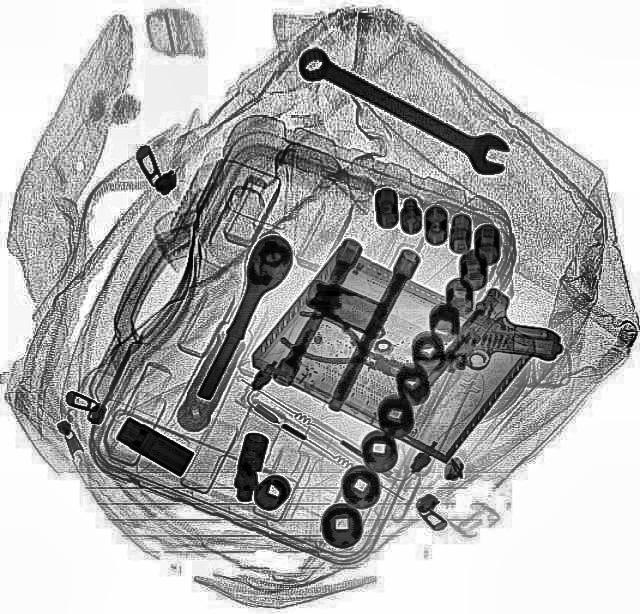Gun: (410, 282, 572, 428)
Pliers: (274, 301, 424, 398)
Wrench: (288, 38, 520, 180)
